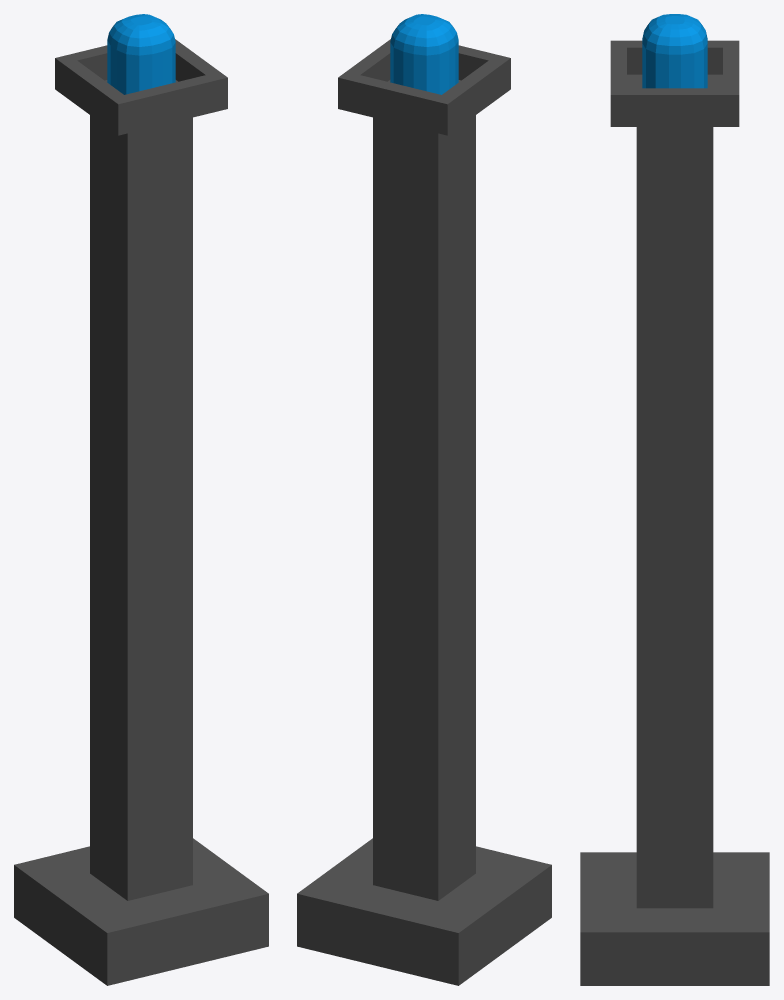
Rendered from LampTower3.fbx.
The picture shows the model from 3 angles, left to right: view 1: azimuth 30°, elevation 25°; view 2: azimuth 150°, elevation 25°; view 3: azimuth 270°, elevation 25°; orthographic projection.
Parts seen in each view (by area): view 1: Cube.010; view 2: Cube.010; view 3: Cube.010.
Boxes of the visible parts, x1=… form: Cube.010: x1=14, y1=14, x2=268, y2=985; Cube.010: x1=297, y1=14, x2=551, y2=985; Cube.010: x1=580, y1=14, x2=769, y2=985.
Bounding box in the file's own units: 200 × 1077 × 200.
